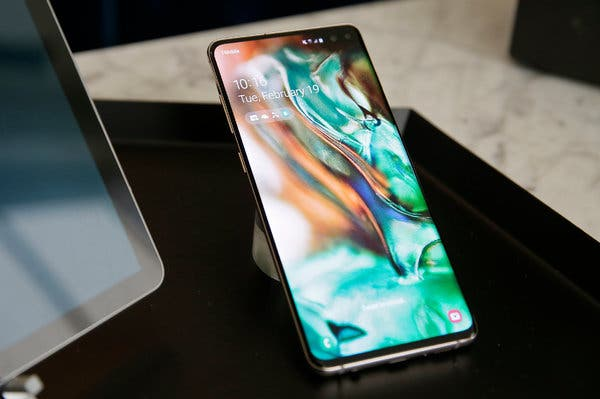phone: (202, 22, 492, 385)
